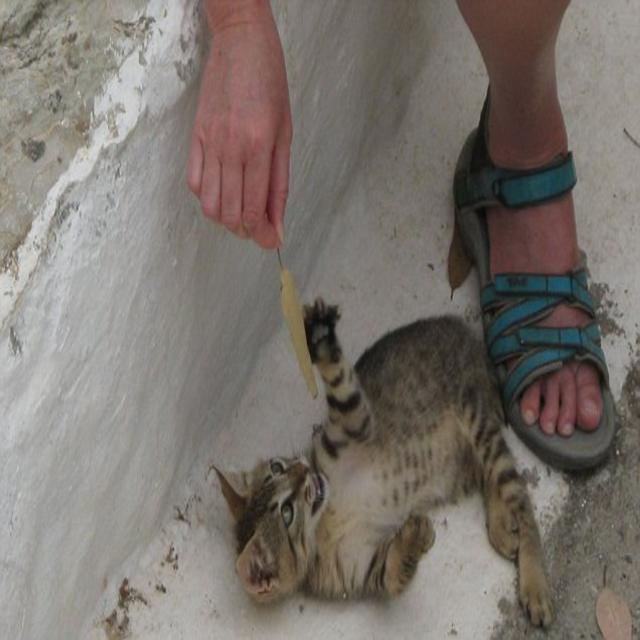cat: (216, 300, 551, 624)
